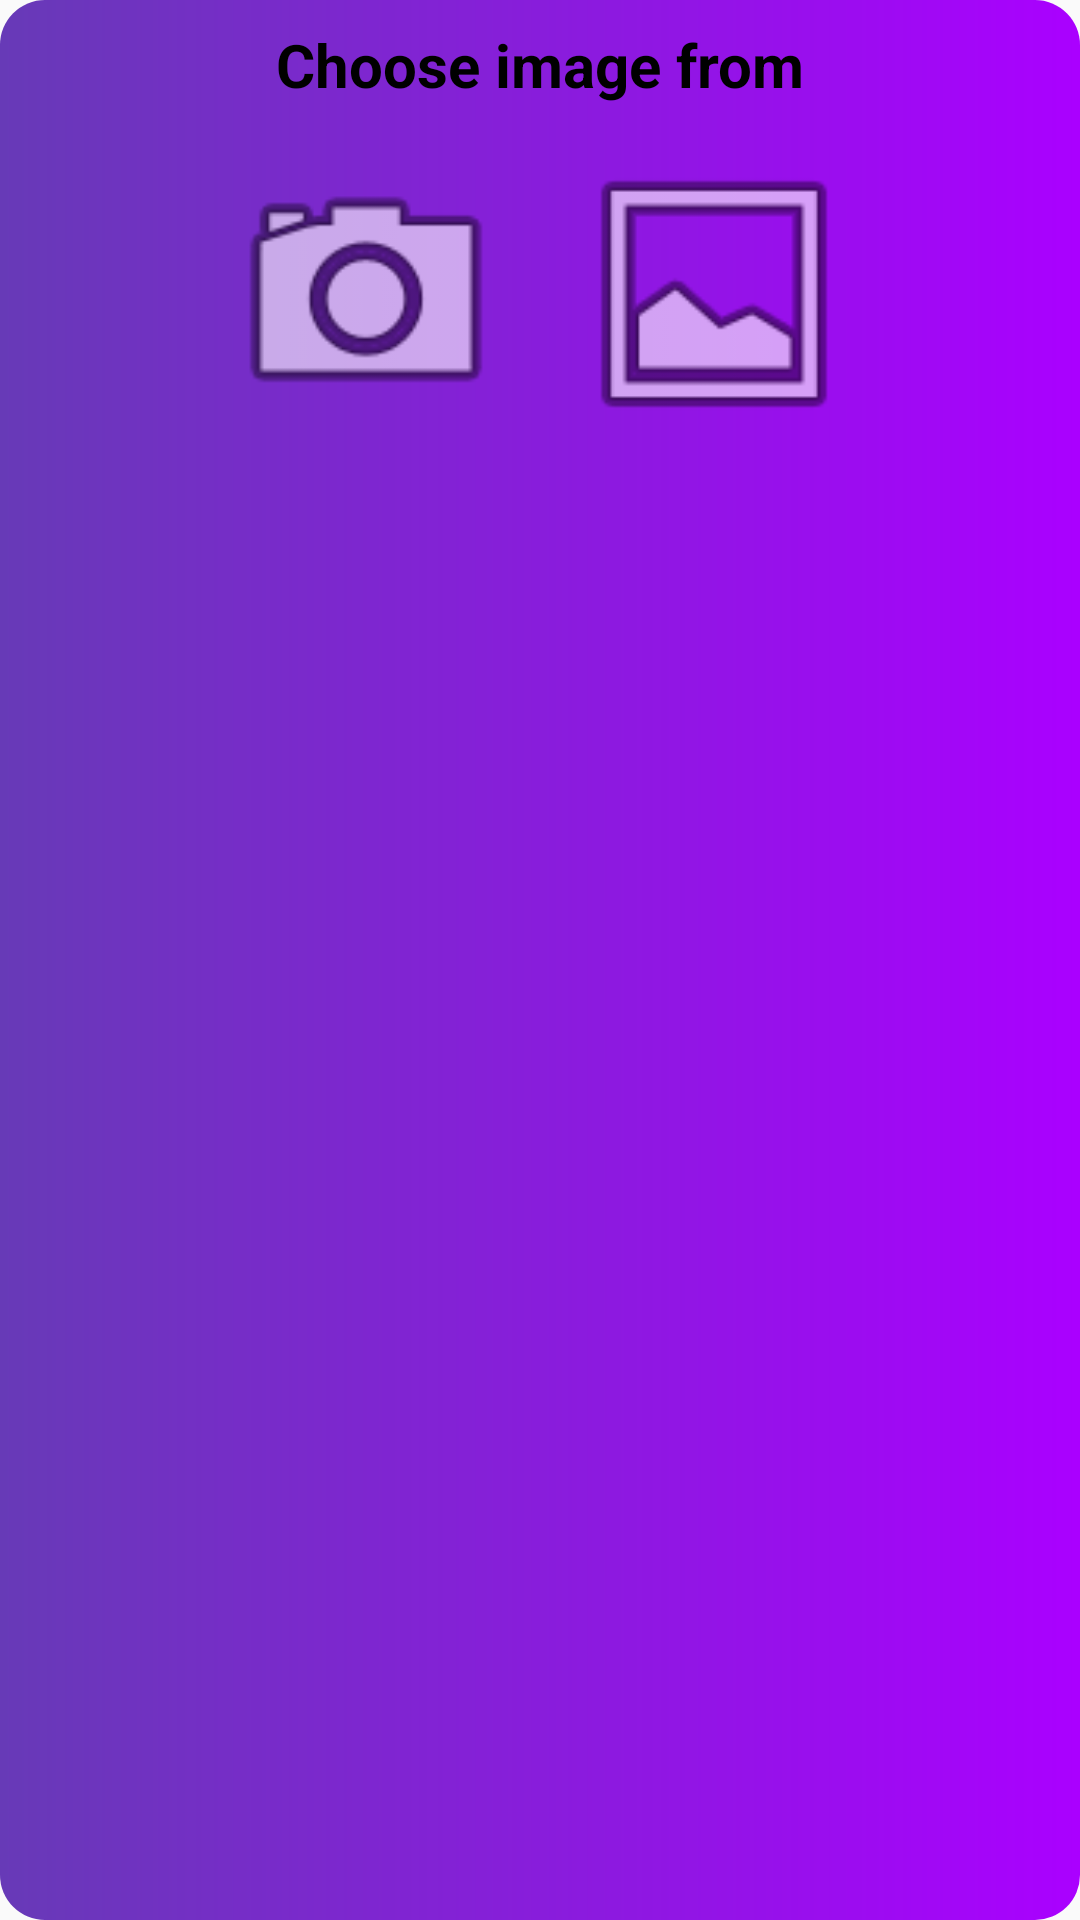

Named icons in this screenshot (1080 × 1920) and their bounding boxes, (x1, y1, x2, y2):
camera: (250, 197, 481, 381)
gallery: (601, 181, 827, 407)
